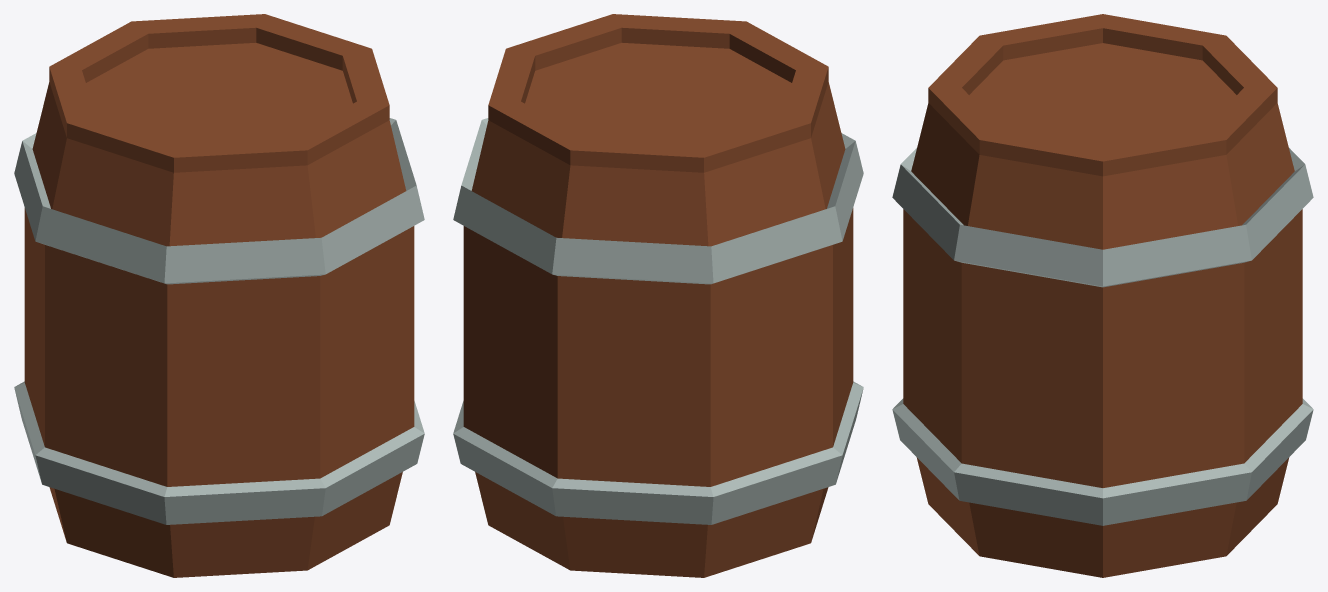
The model's file is barell.glb.
3 views of the same model, side by side, from view 1: azimuth 30°, elevation 25°; view 2: azimuth 150°, elevation 25°; view 3: azimuth 270°, elevation 25° (orthographic).
Parts seen in each view (by area): view 1: бочка; view 2: бочка; view 3: бочка.
Boxes of the visible parts, bbox=[...] form: бочка: bbox=[14, 14, 424, 577]; бочка: bbox=[453, 14, 863, 577]; бочка: bbox=[892, 14, 1313, 577].
Bounding box in the file's own units: 1.29 × 1.4 × 1.29.
1 material, 1 textured.
